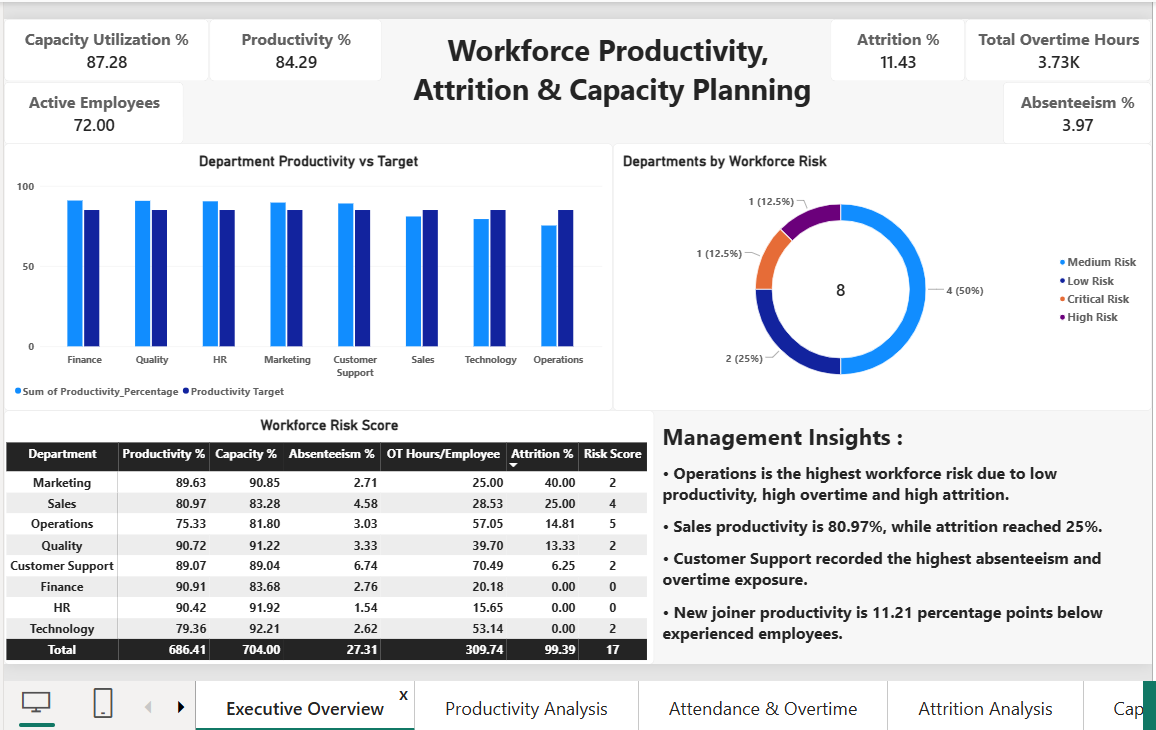

Layout of this report page (visuals, bound fields, positions):
{"tool":"powerbi","page":{"name":"Executive Overview","canvas":[1920,1080],"ordinal":0},"visuals":[{"type":"textbox","box":[648,0,739.9,168.8],"z":0},{"type":"cardVisual","fields":{"Data":["executive_kpi_summary.Active Employees"]},"box":[0,104.3,300.4,104.3],"z":1000},{"type":"cardVisual","fields":{"Data":["executive_kpi_summary.Productivity %"]},"box":[342.6,0,288,104.3],"z":2000},{"type":"cardVisual","fields":{"Data":["executive_kpi_summary.Capacity Utilization %"]},"box":[0,0,342.6,104.3],"z":3000},{"type":"cardVisual","fields":{"Data":["executive_kpi_summary.Attrition %"]},"box":[1382.9,0,225.9,104.3],"z":4000},{"type":"cardVisual","fields":{"Data":["executive_kpi_summary.Absenteeism %"]},"box":[1670.9,104.3,248.3,104.3],"z":5000},{"type":"cardVisual","fields":{"Data":["executive_kpi_summary.Total Overtime Hours"]},"box":[1608.8,0,310.3,104.3],"z":6000},{"type":"lineClusteredColumnComboChart","title":"Department Productivity vs Target","fields":{"Category":["department_workforce_risk_summary.Department"],"Y":["Sum(department_workforce_risk_summary.Productivity_Percentage)","department_workforce_risk_summary.Productivity Target"]},"box":[0,208.6,1017.9,446.9],"z":7000},{"type":"pivotTable","title":"Workforce Risk Score","fields":{"Rows":["department_workforce_risk_summary.Department"],"Values":["Sum(department_workforce_risk_summary.Productivity_Percentage)","Sum(department_workforce_risk_summary.Capacity_Utilization_Percentage)","Sum(department_workforce_risk_summary.Absenteeism_Percentage)","Sum(department_workforce_risk_summary.OT_Hours_Per_Employee)","Sum(department_workforce_risk_summary.Attrition_Percentage)","Sum(department_workforce_risk_summary.Risk_Score)"]},"box":[0,655.5,1087.5,424.6],"z":8000},{"type":"donutChart","title":"Departments by Workforce Risk","fields":{"Category":["department_workforce_risk_summary.Workforce_Risk_Level"],"Y":["CountNonNull(department_workforce_risk_summary.Department)"]},"box":[1017.9,208.6,901.2,446.9],"z":9000},{"type":"textbox","box":[1087.5,655.5,831.7,424.6],"z":10000}]}

Visuals, with their boxes on the page's 1920x1080 design canvas (x1, y1, x2, y2). These are canvas units, not pixel positions in the 1156x730 screenshot, which may show the page scaled, cropped or inside an application window:
textbox: region(648, 0, 1388, 169)
cardVisual - executive_kpi_summary.Active Employees: region(0, 104, 300, 209)
cardVisual - executive_kpi_summary.Productivity %: region(343, 0, 631, 104)
cardVisual - executive_kpi_summary.Capacity Utilization %: region(0, 0, 343, 104)
cardVisual - executive_kpi_summary.Attrition %: region(1383, 0, 1609, 104)
cardVisual - executive_kpi_summary.Absenteeism %: region(1671, 104, 1919, 209)
cardVisual - executive_kpi_summary.Total Overtime Hours: region(1609, 0, 1919, 104)
"Department Productivity vs Target" lineClusteredColumnComboChart: region(0, 209, 1018, 656)
"Workforce Risk Score" pivotTable: region(0, 656, 1088, 1080)
"Departments by Workforce Risk" donutChart: region(1018, 209, 1919, 656)
textbox: region(1088, 656, 1919, 1080)
